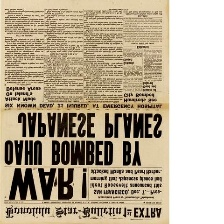news_paper: (0, 0, 170, 224)
